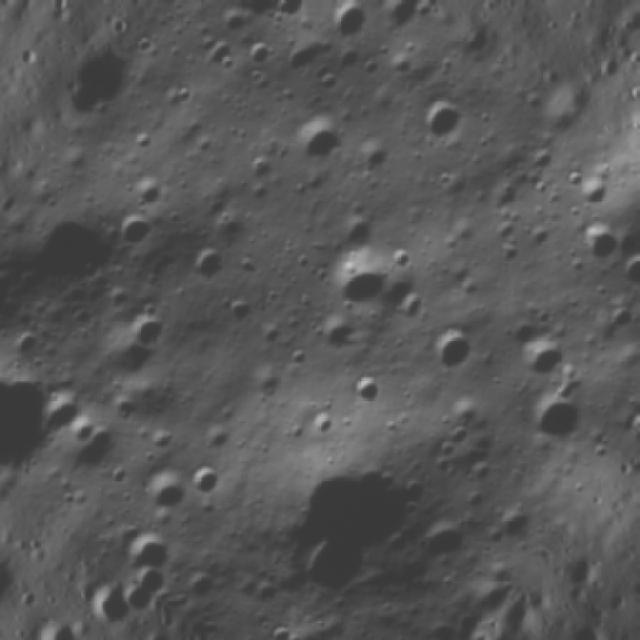crater: (0, 353, 66, 479), (319, 236, 395, 319), (502, 318, 572, 384), (521, 380, 588, 448), (286, 108, 354, 172), (117, 526, 180, 588), (128, 463, 190, 526), (425, 324, 481, 381), (325, 1, 377, 52), (182, 456, 235, 504), (581, 221, 625, 265), (188, 236, 230, 282), (235, 26, 277, 69), (129, 172, 171, 211), (349, 362, 389, 402), (425, 101, 464, 141), (118, 211, 156, 251), (202, 418, 240, 456), (304, 404, 342, 441), (133, 309, 169, 346), (615, 243, 640, 288), (577, 175, 611, 208), (259, 612, 299, 640), (272, 0, 312, 25), (166, 80, 197, 108), (283, 342, 311, 370), (240, 0, 278, 20), (131, 125, 157, 152), (444, 421, 470, 447), (132, 30, 157, 55)
